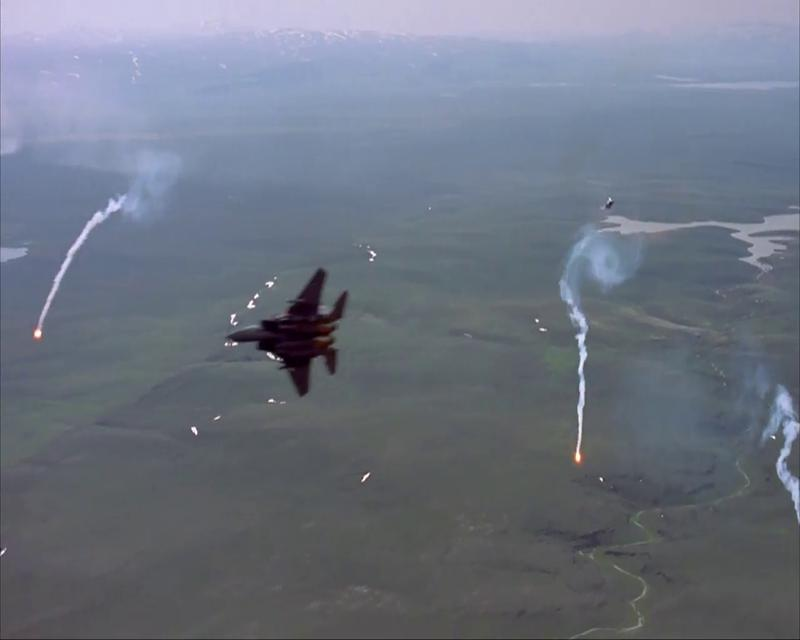UAV: (225, 266, 347, 399), (602, 192, 616, 212)
